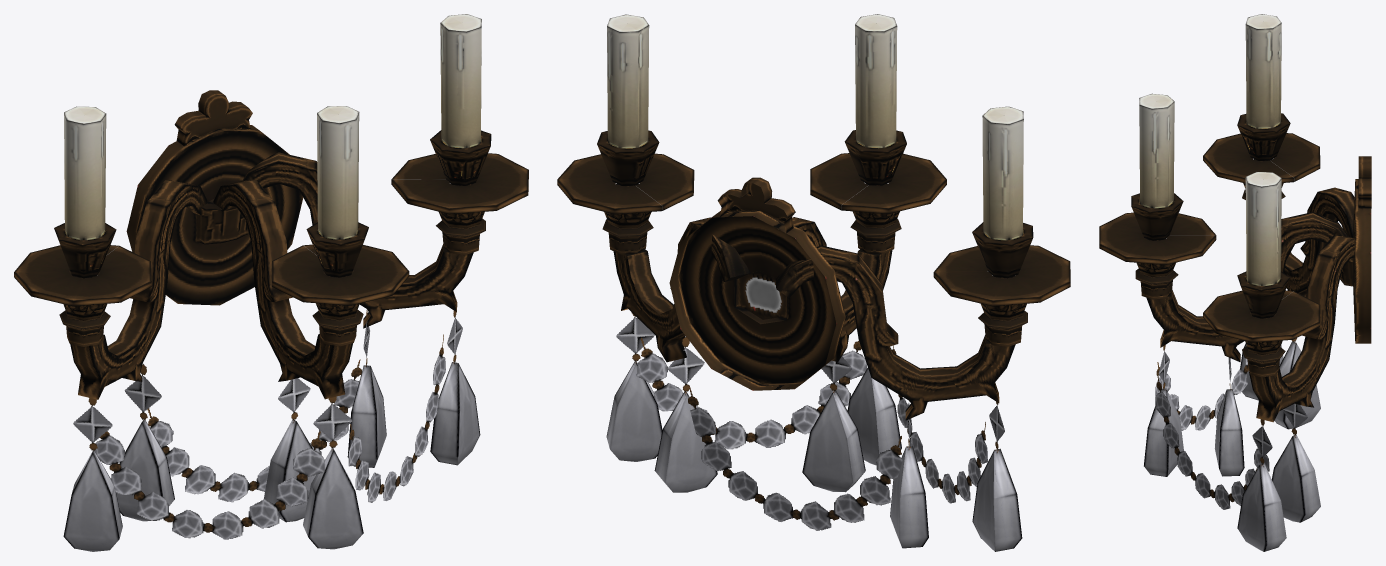
The model's file is WallLamp01.FBX.
3 views of the same model, side by side, from view 1: azimuth 30°, elevation 25°; view 2: azimuth 150°, elevation 25°; view 3: azimuth 270°, elevation 25° (orthographic). The views are drawn at different scales.
Parts seen in each view (by area): view 1: WallLamp01; view 2: WallLamp01; view 3: WallLamp01.
Boxes of the visible parts, box(x1,y1,x2,y2) form: WallLamp01: box(14, 14, 528, 551); WallLamp01: box(557, 14, 1070, 551); WallLamp01: box(1099, 14, 1371, 551).
Bounding box in the file's own units: 86.01 × 47.72 × 73.57.
